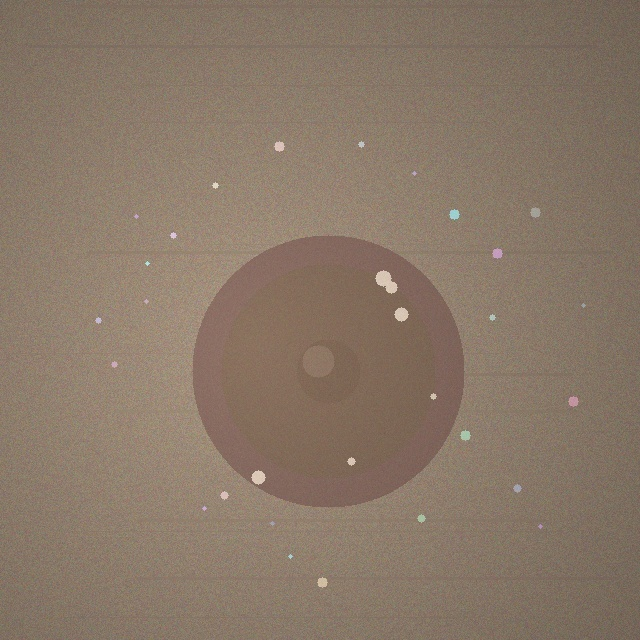overburn: (192, 235, 464, 507)
